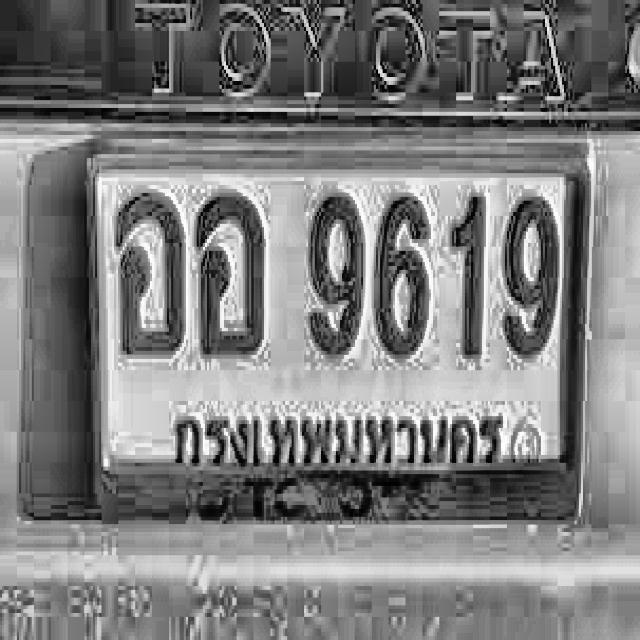license-plate: (83, 142, 588, 518)
